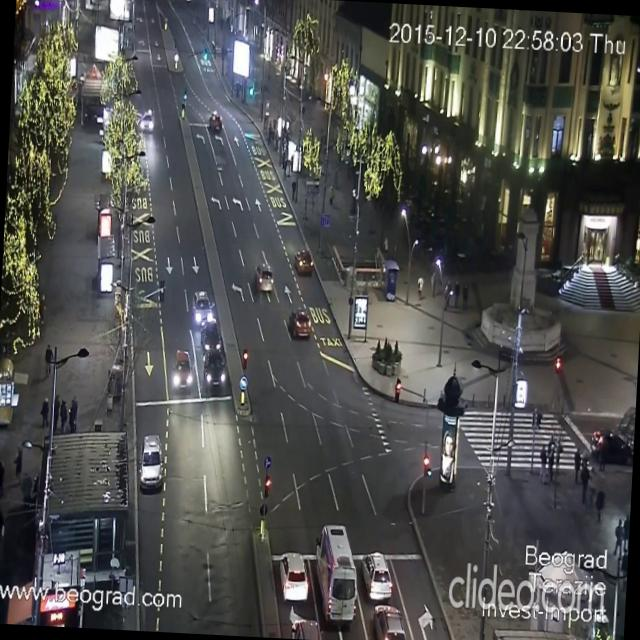bus: (310, 523, 360, 627)
car: (359, 550, 394, 604), (277, 551, 310, 603), (593, 425, 635, 465), (138, 432, 165, 492), (371, 603, 408, 640), (171, 348, 194, 394), (202, 351, 226, 392), (190, 289, 212, 332), (200, 320, 223, 353), (288, 308, 312, 339), (294, 248, 314, 276), (254, 264, 274, 292), (140, 110, 156, 135), (208, 110, 222, 132)
